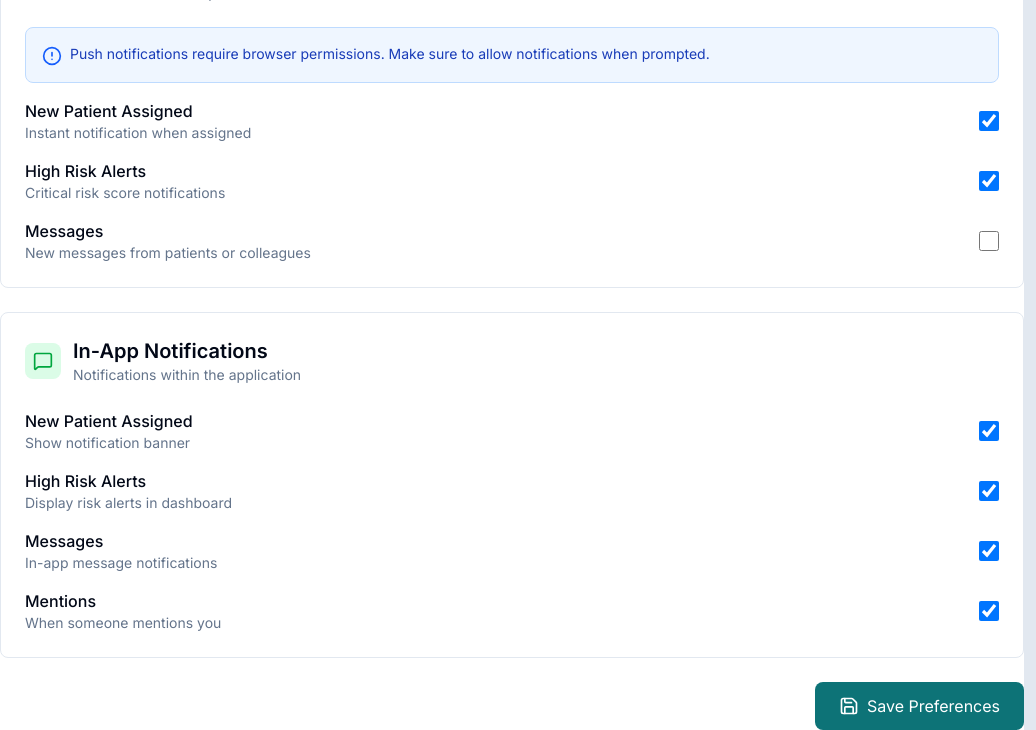
NotificationSettings › should disable save button while loading
(page scrolled)
Step 1. Click the button "Save Preferences" → (919, 706), box [815,682,1024,729]
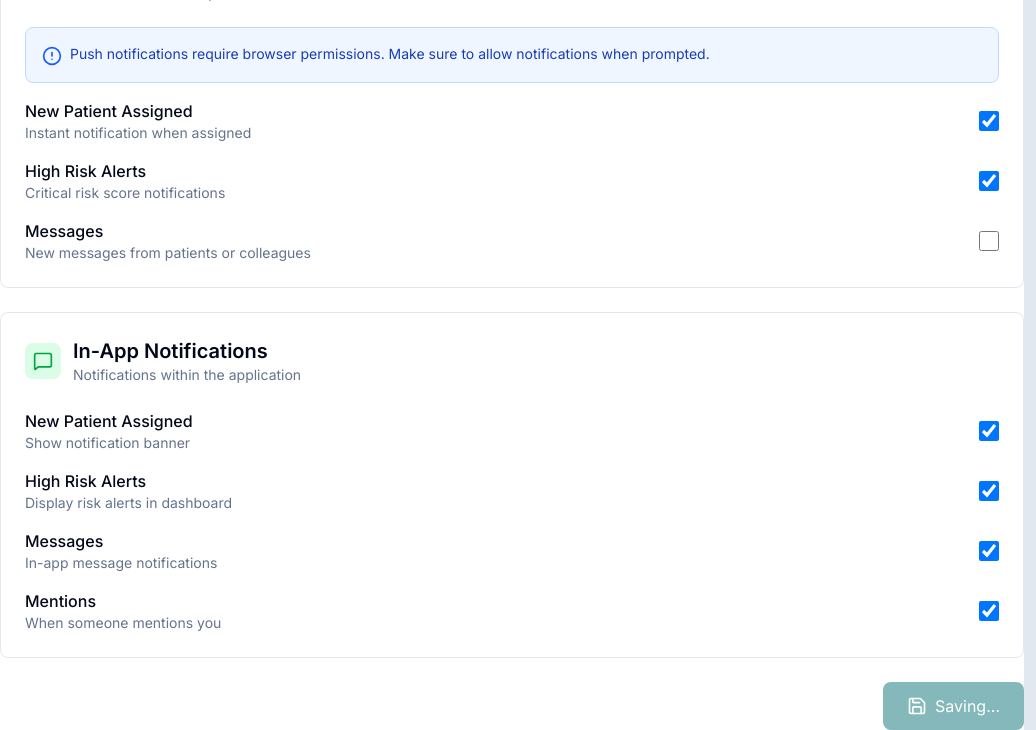
Expected: the button "Saving..." is disabled, [883,682,1024,729]
